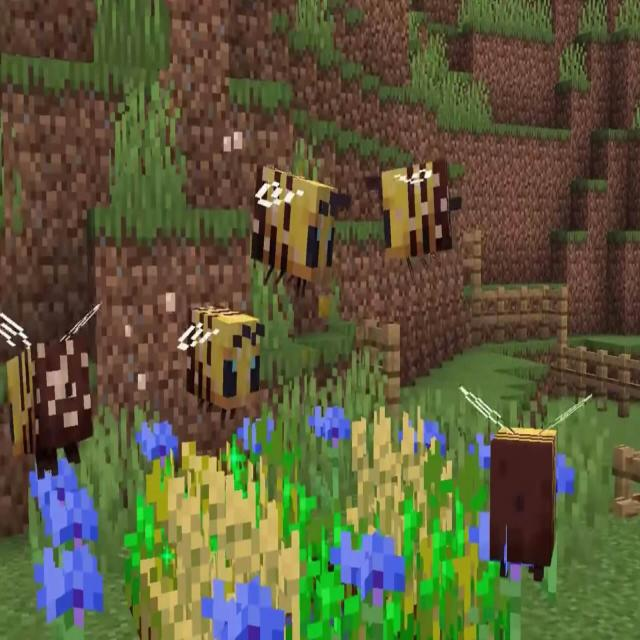Bee: (452, 371, 610, 586), (0, 297, 106, 485), (241, 151, 360, 290), (365, 124, 467, 281), (178, 303, 274, 425)
